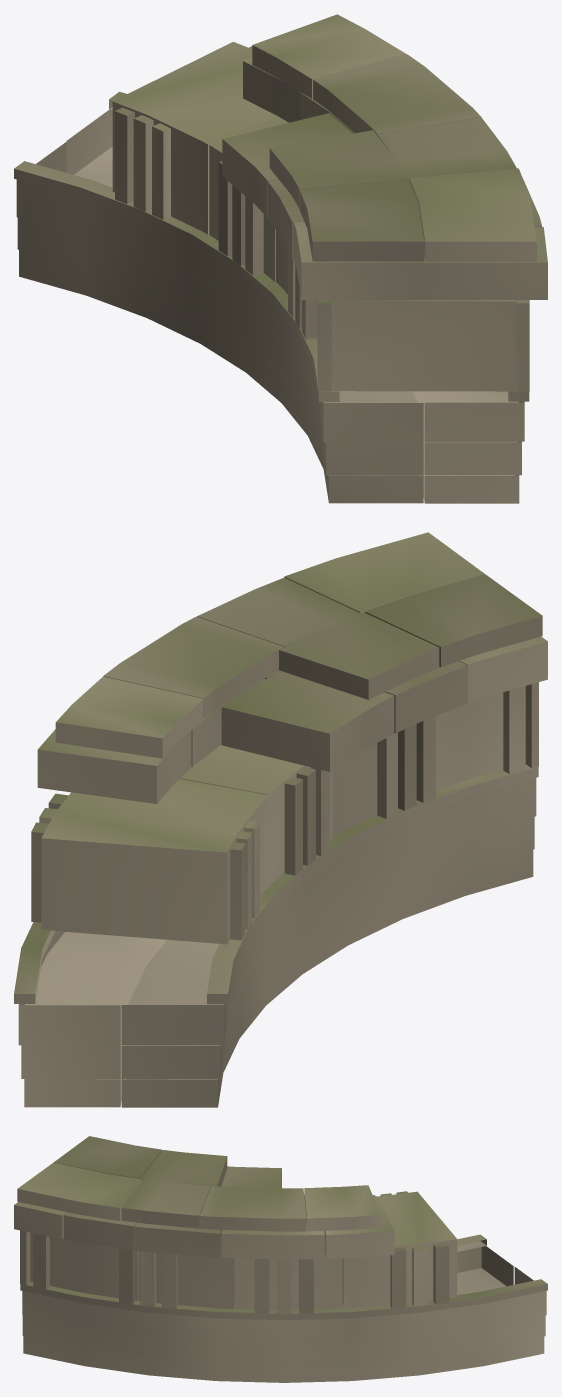
File: tholos_lintel_l_mid.glb
3 views of the same model, one above another, from view 1: azimuth 30°, elevation 25°; view 2: azimuth 150°, elevation 25°; view 3: azimuth 270°, elevation 25° (orthographic). The views are drawn at different scales.
Parts seen in each view (by area): view 1: tholos_lintel_l_mid; view 2: tholos_lintel_l_mid; view 3: tholos_lintel_l_mid.
Boxes of the visible parts, x1,y1,x2,y2 form: tholos_lintel_l_mid: [14, 14, 547, 503]; tholos_lintel_l_mid: [14, 532, 547, 1107]; tholos_lintel_l_mid: [14, 1136, 547, 1382].
Size of the model in its own units: 8.41 by 7.48 by 21.45.
